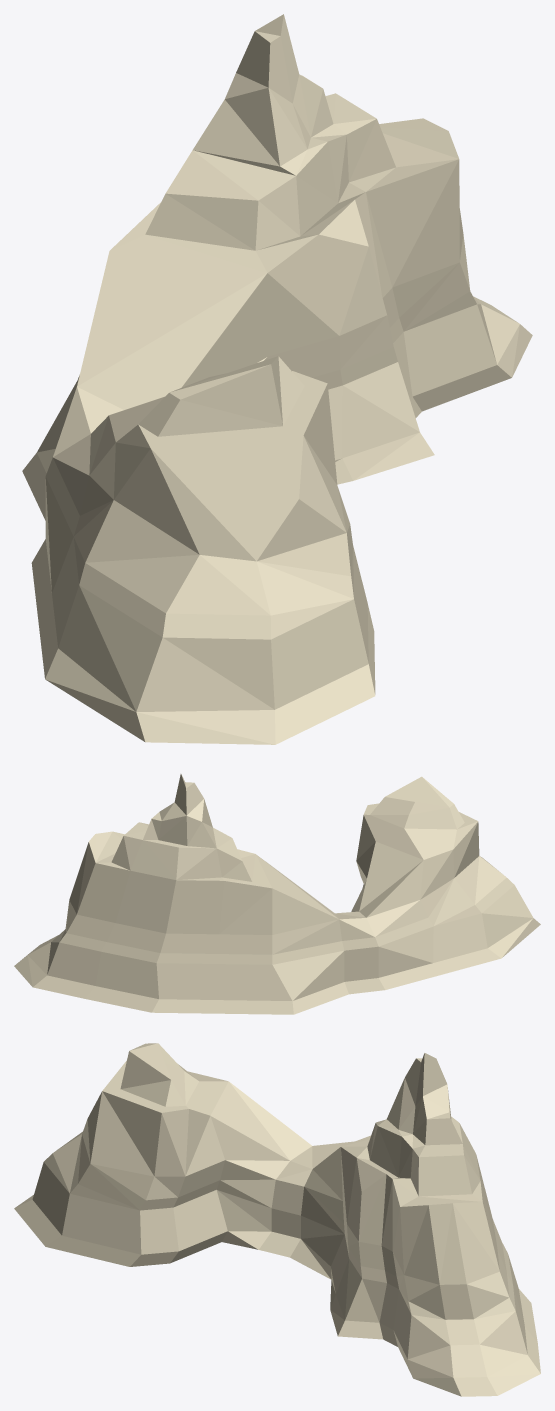
File: mountain_01.fbx
The picture shows the model from 3 angles, top to bottom: view 1: azimuth 30°, elevation 25°; view 2: azimuth 150°, elevation 25°; view 3: azimuth 270°, elevation 25°; orthographic projection. The views are drawn at different scales.
Visible parts, largest first — view 1: Circle.009; view 2: Circle.009; view 3: Circle.009.
Boxes of the visible parts, left/top/right/bottom form: Circle.009: left=22, top=14, right=532, bottom=744; Circle.009: left=14, top=774, right=540, bottom=1014; Circle.009: left=14, top=1043, right=540, bottom=1396.
Bounding box in the file's own units: 3328 × 1818 × 3357.
